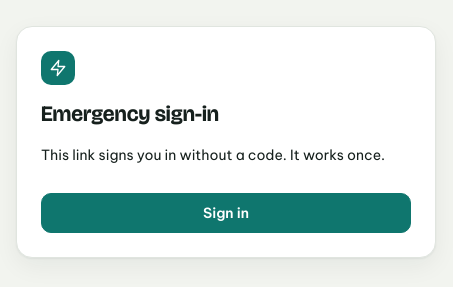
Scenario: the answers (R45) › rate_limited under a minute reads as one minute
This screenshot has width=453, height=287.
Click the button "Sign in" at (226, 213), box [41,193,411,233]
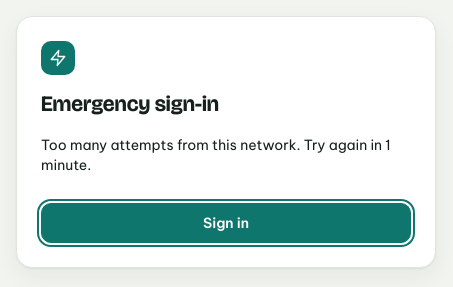
Expected: the text "Too many attempts from this network. Try again in 1 minute." is shown, [41,135,411,175]
